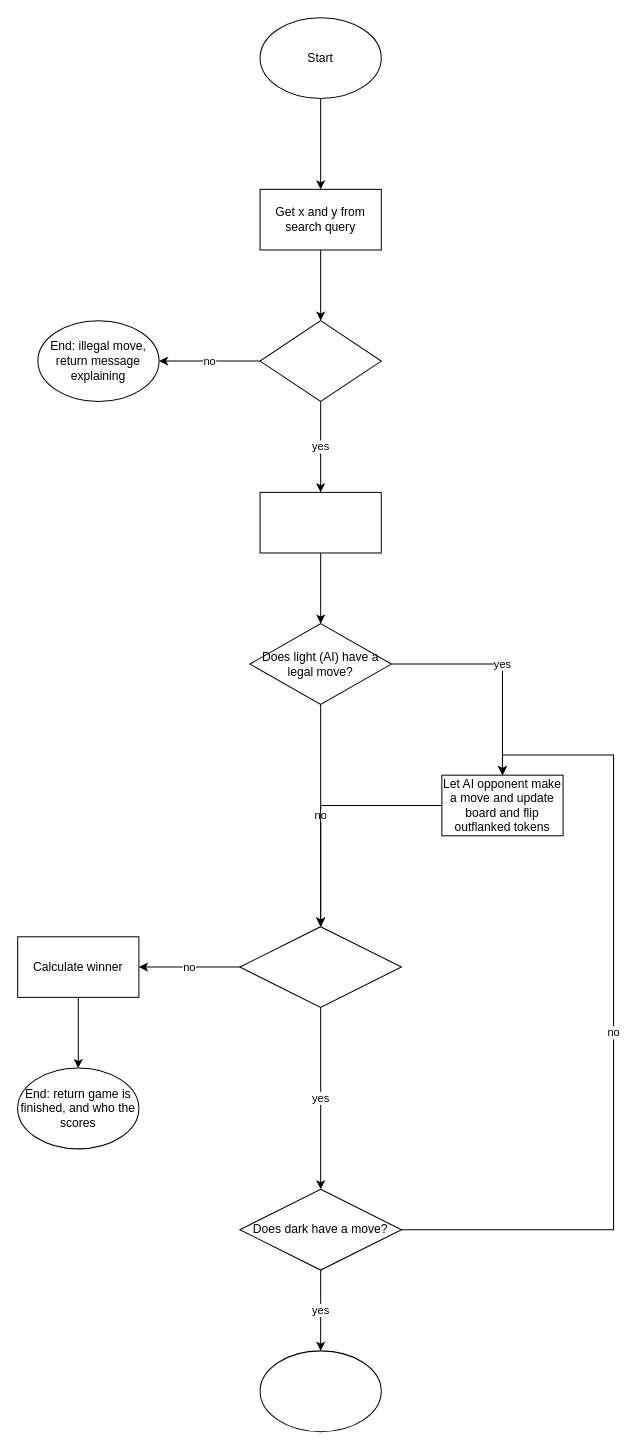
Some shapes in this 639 by 1449 pixel diagram are drawn without their labels. Here are the shapes that lost their labels. From the top down, the centre of each, then its label:
At [320,360]: "Is the move legal?".
At [320,522]: "update board and flip outflanked tokens".
At [320,966]: "Does either player have a legal move?".
At [320,1391]: "End: pass turn back to user".
